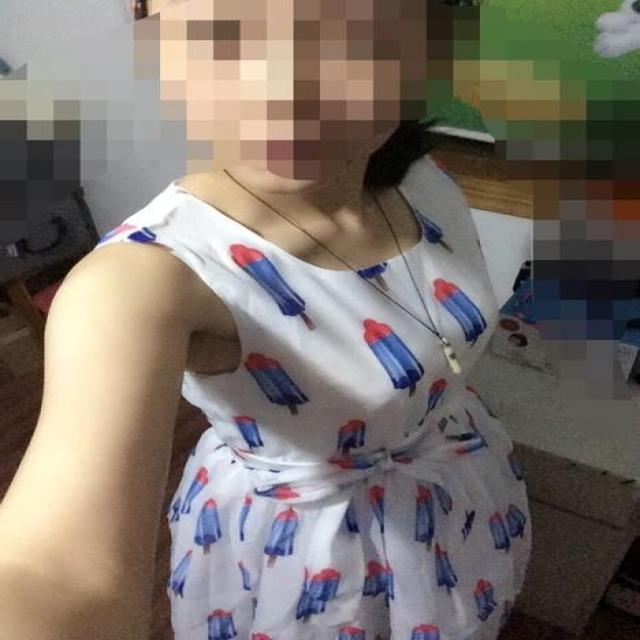vest dress: (96, 154, 526, 639)
